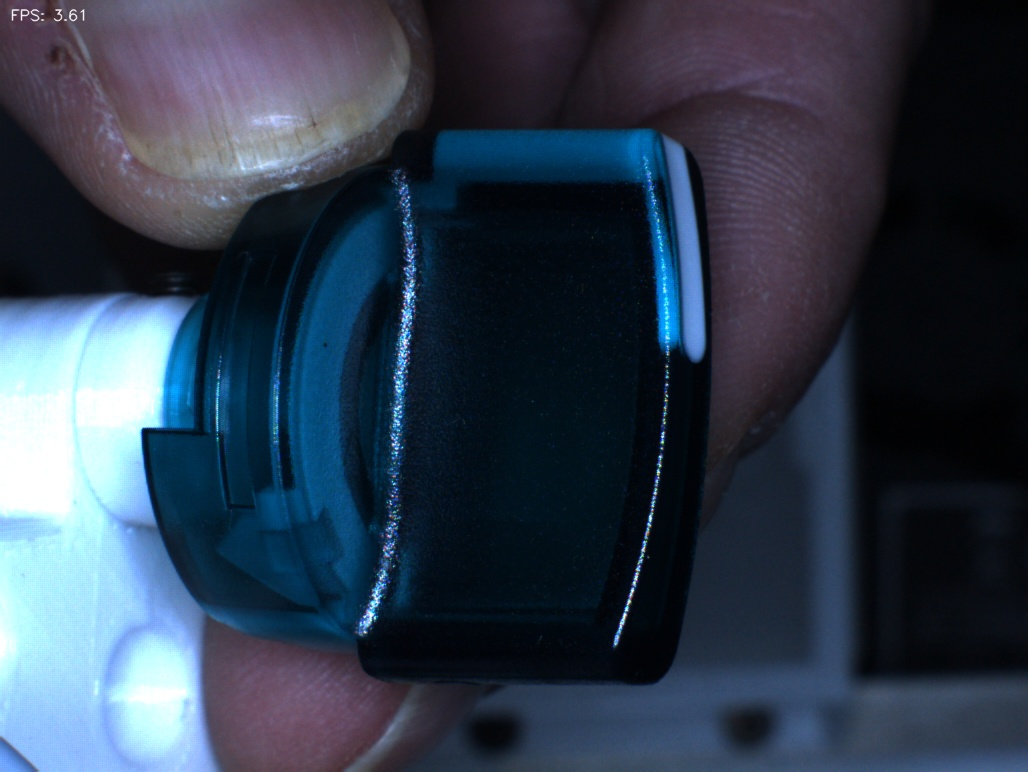PointNoir: (300, 306, 362, 388)
